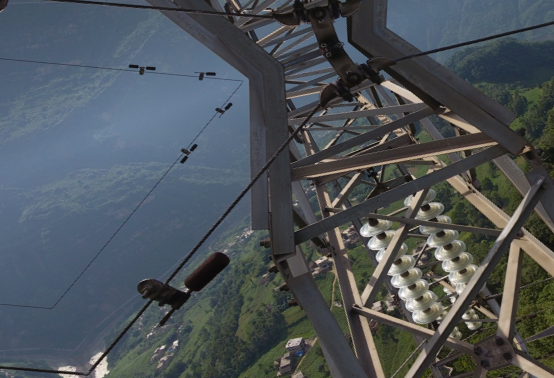damper: (126, 62, 158, 78), (177, 143, 198, 165)
damper_defect: (131, 250, 229, 328), (214, 101, 233, 120), (190, 69, 217, 82)
